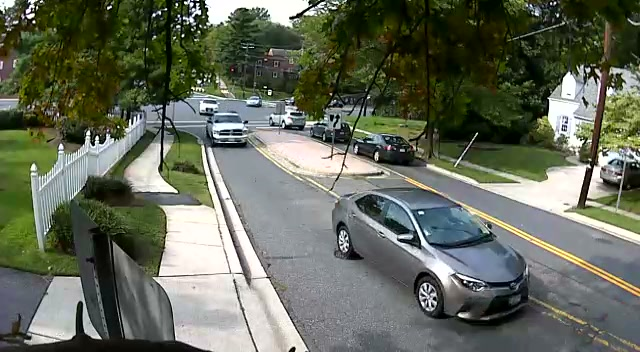car: (331, 185, 530, 323), (350, 133, 415, 165), (205, 111, 247, 147), (600, 153, 640, 190), (309, 116, 352, 144), (199, 100, 220, 116), (246, 95, 262, 108)
truck: (205, 111, 248, 147), (281, 111, 307, 130)
